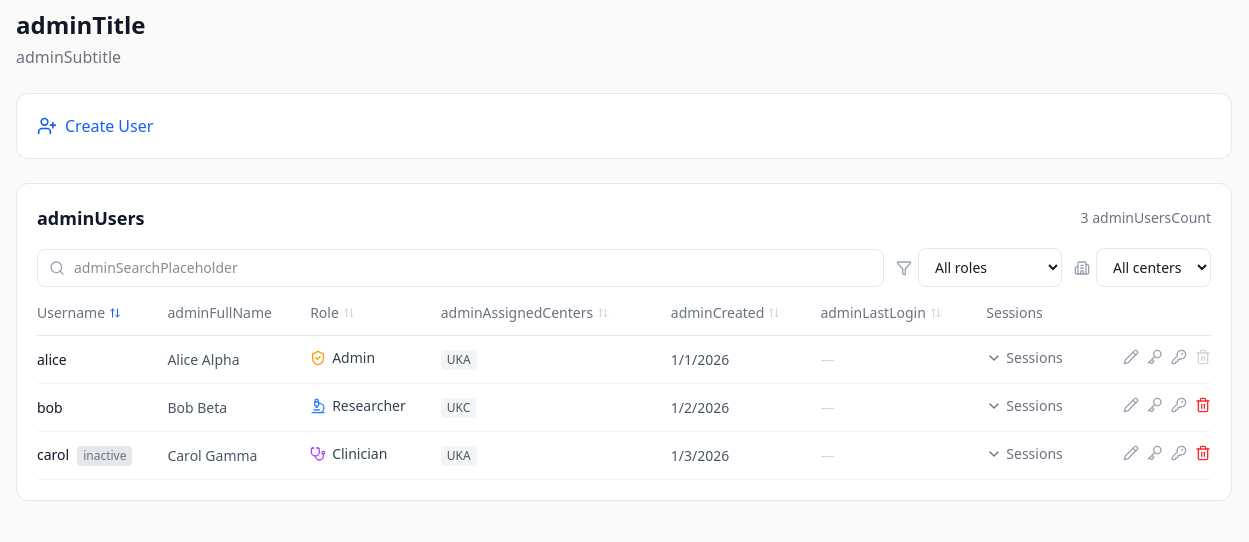
Test case: UMGMT-01 — edit dialog: save blocked when no center selected › shows center error and does NOT submit when editCenters is empty
Expected: the text "alice" is shown, [37,336,167,384]
Expected: the text "bob" is shown, [37,384,167,432]
Click the button named "Edit" in the row of "Bob Beta" at (1131, 405), box [1123,397,1139,413]
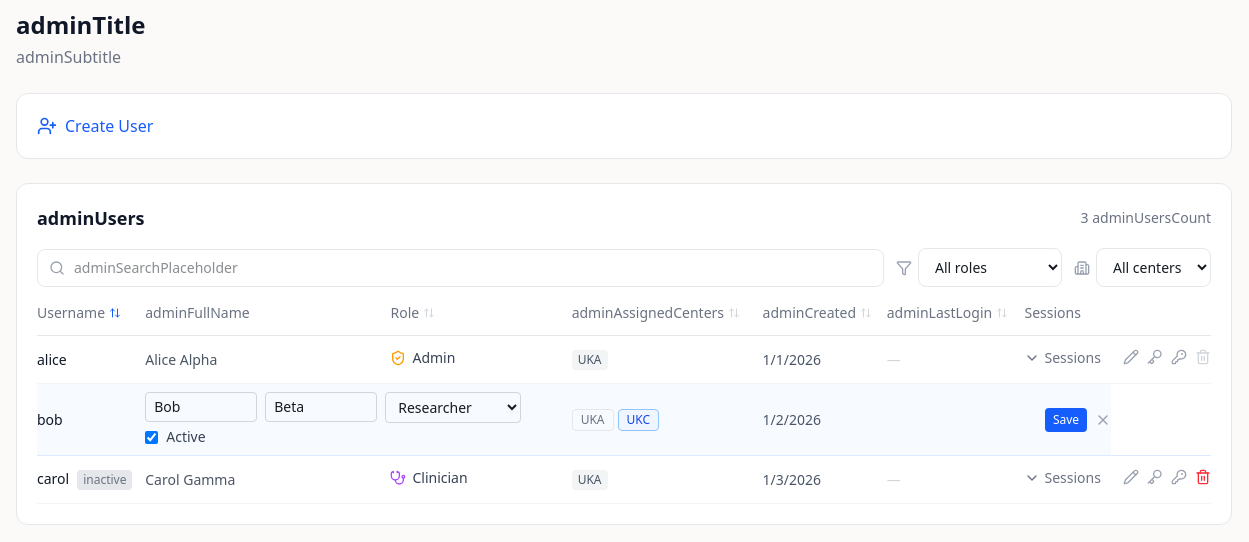
Result: the 1st field with placeholder "First name" is shown at [145,392,257,422]
Click the button "UKC" at (638, 420), box [618,408,659,430]
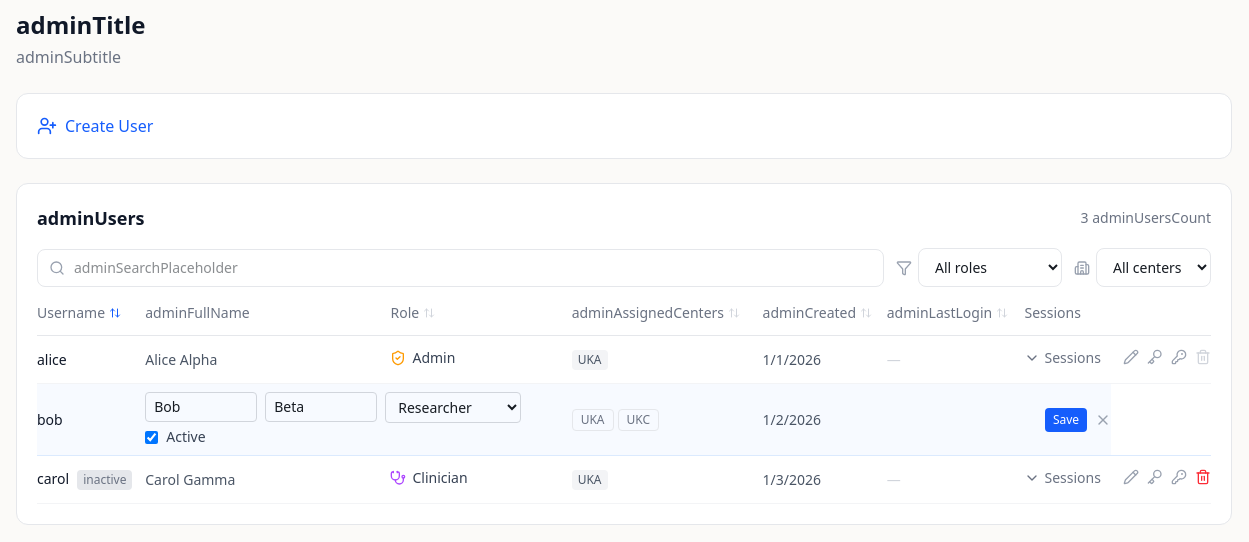
Result: the button "Save" is shown
Click the button "Save" at (1066, 420), box [1045,408,1087,432]
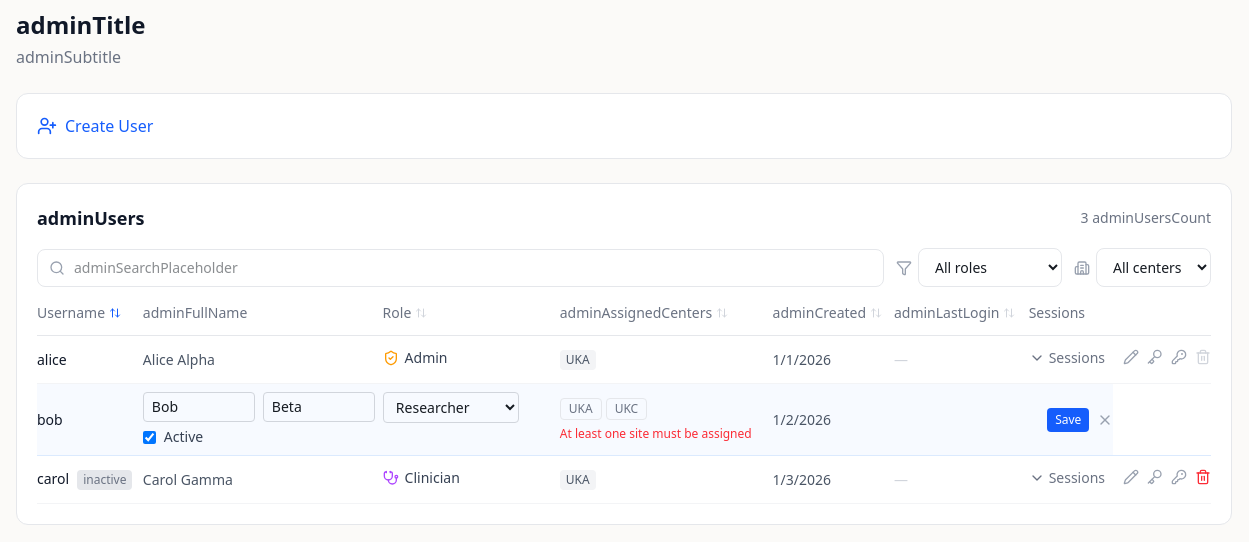
Result: the text "At least one site must be assigned" is shown at [560,426,773,442]
